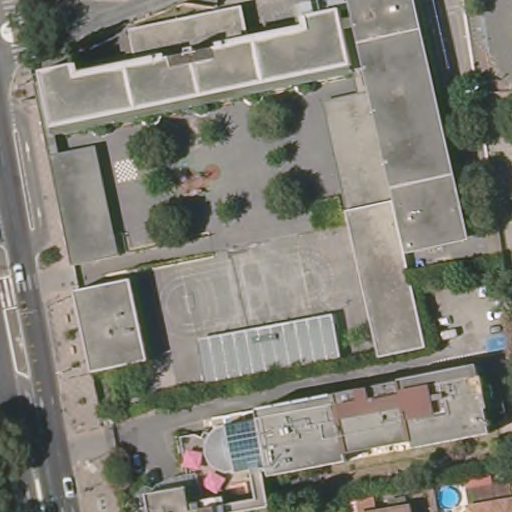pool: (435, 481, 461, 510)
